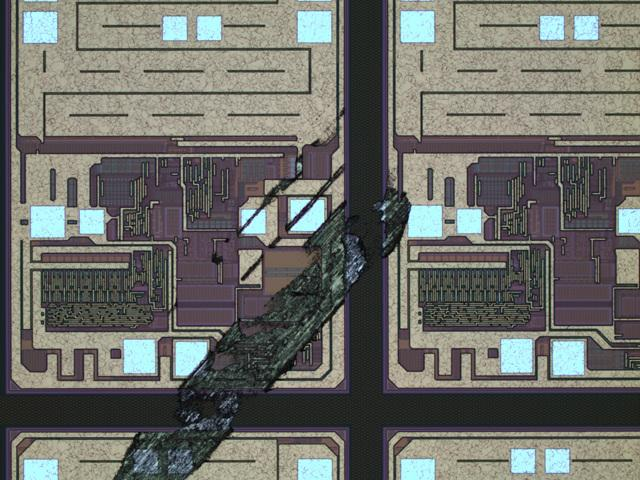SCRATCH: (109, 103, 418, 480)
